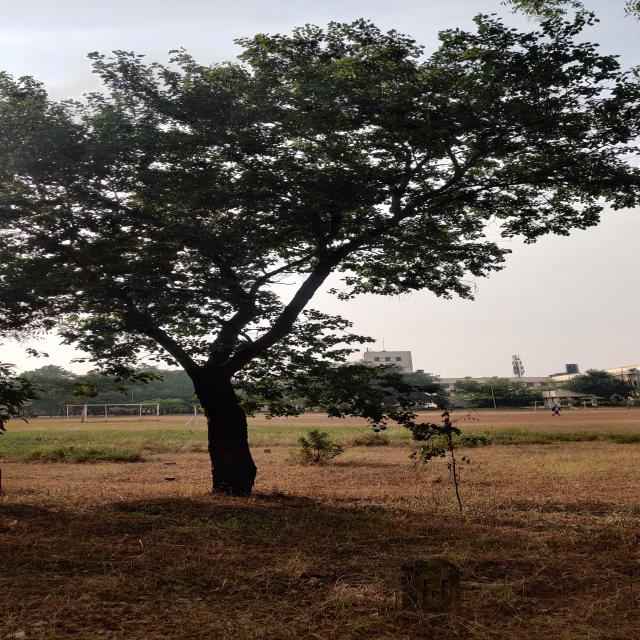Devakanchan tree: (54, 31, 640, 323)
